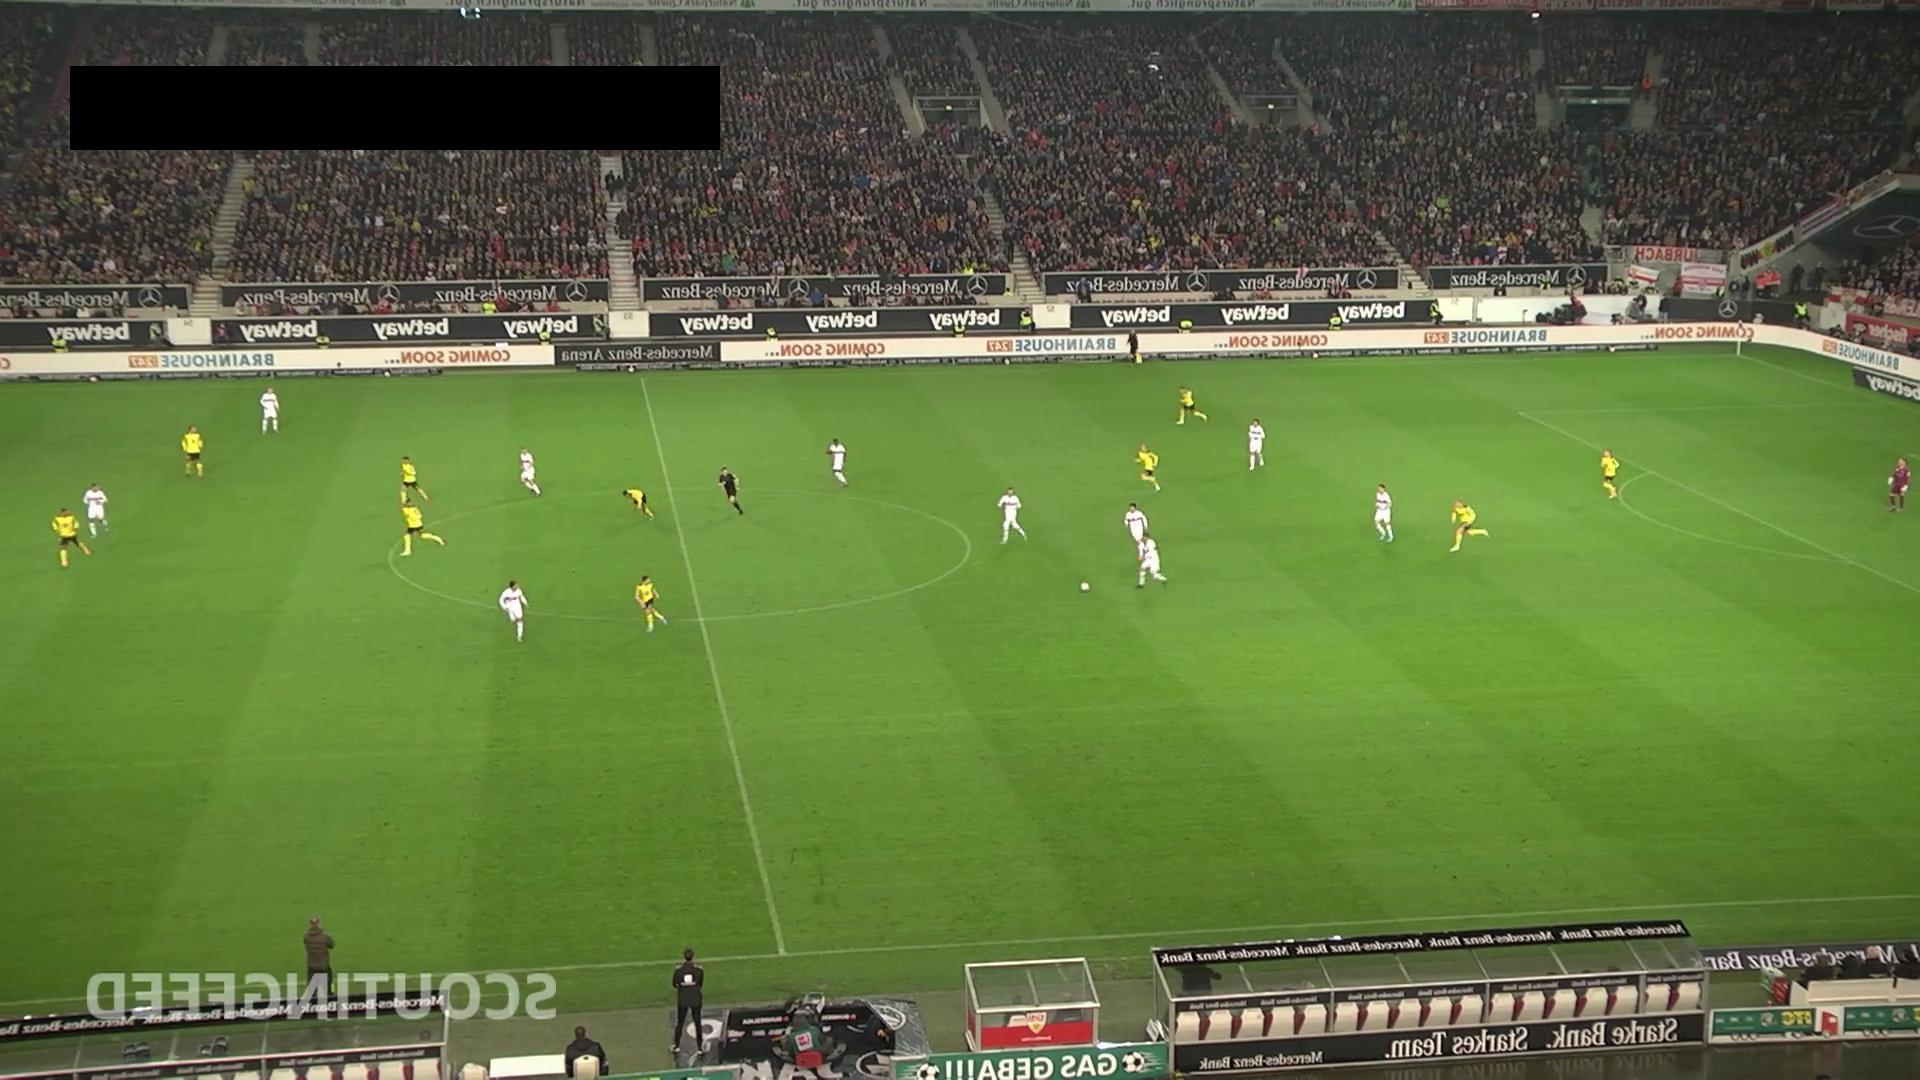ball: (1080, 580, 1090, 592)
goalkeeper: (1887, 457, 1911, 512)
player: (398, 496, 446, 556), (1445, 498, 1491, 556), (50, 506, 92, 568), (498, 579, 529, 643), (634, 574, 668, 632), (996, 485, 1027, 544), (1136, 534, 1168, 588), (82, 481, 110, 538), (399, 455, 430, 505), (1124, 500, 1148, 559), (1135, 442, 1162, 492), (1174, 385, 1207, 425), (1599, 448, 1623, 503), (181, 424, 205, 477), (824, 436, 849, 486), (518, 444, 542, 496), (1374, 483, 1394, 542), (622, 488, 655, 519), (259, 386, 280, 434), (1247, 418, 1266, 470)
referee: (717, 465, 744, 515), (1126, 330, 1141, 365)
